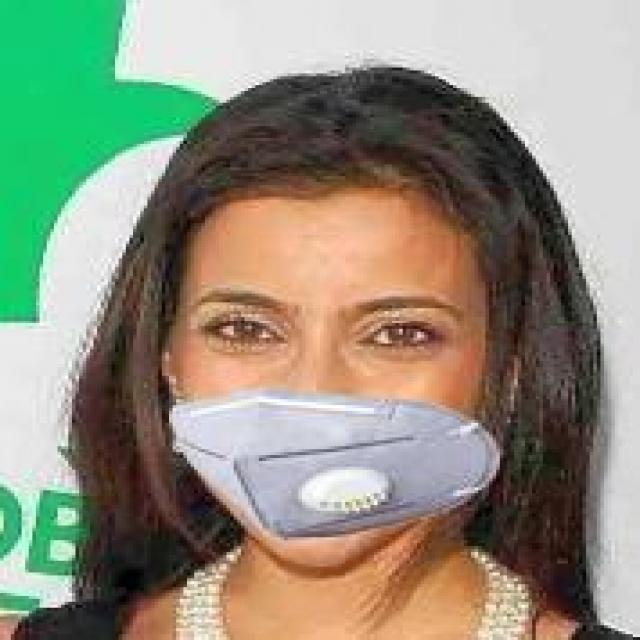mask: (140, 111, 572, 570)
